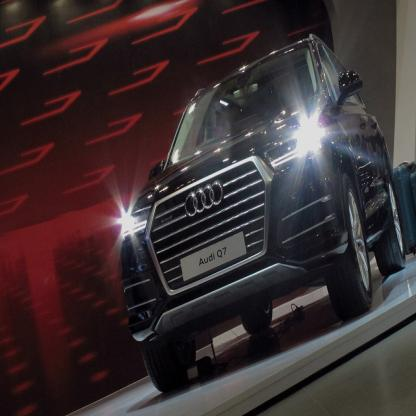Car: (119, 29, 401, 385)
